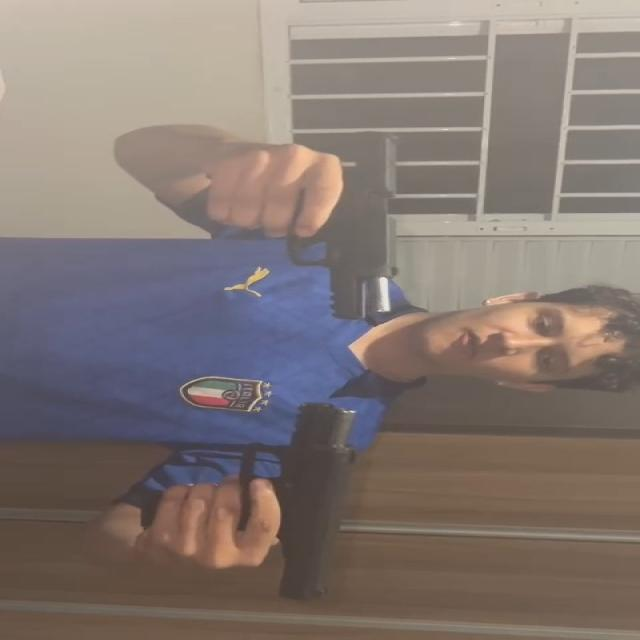guns: (223, 400, 362, 603), (278, 133, 405, 326)
